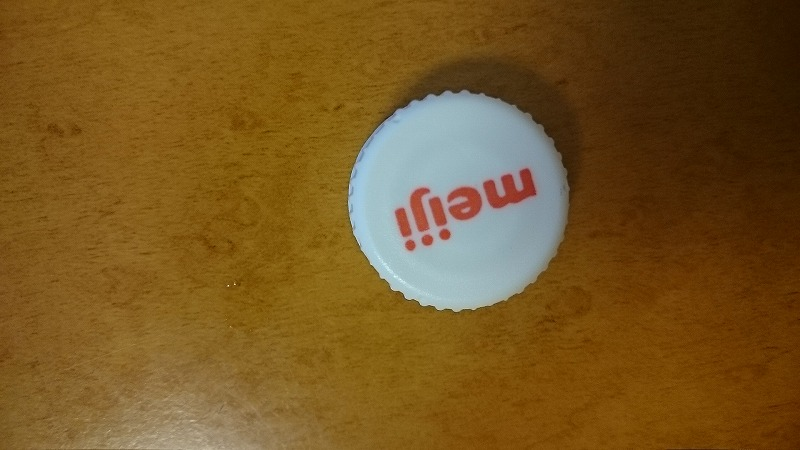B: (332, 77, 581, 319)
